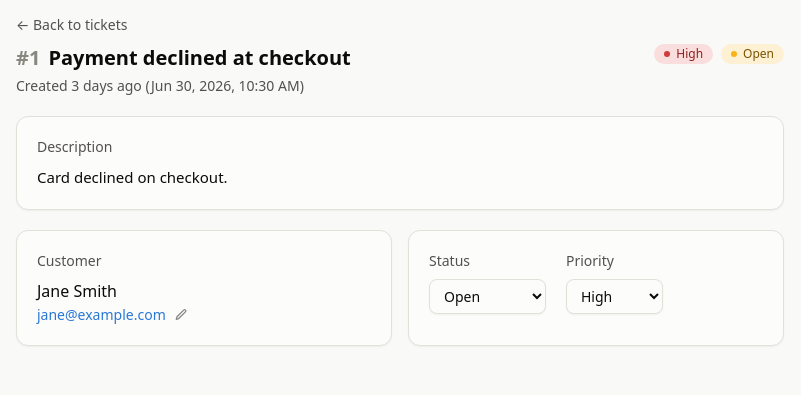
TicketDetailPage inline editing › shows a validation error for an invalid customer email without saving
Check: the text "Card declined on checkout." is shown, box [37,167,228,187]
Click the button named "Edit customer email" at x=181, y=315, box [172,306,190,324]
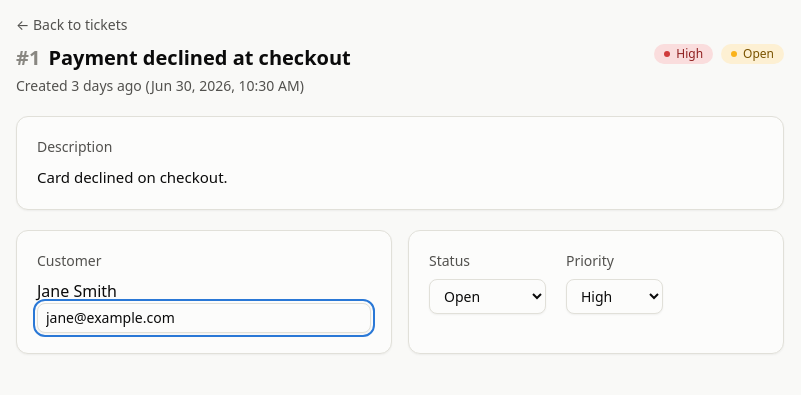
Replace the text in the field named "Customer email" with "not-an-email" at x=204, y=318, box [37,303,371,333]
Then press Enter
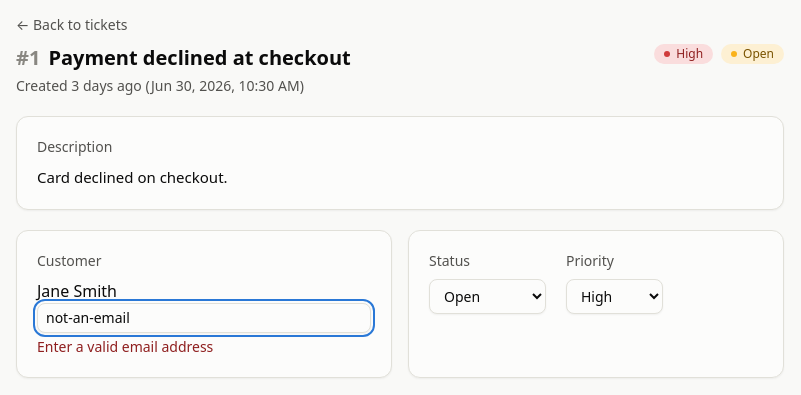
Check: the message reads "Enter a valid email address", box [37,337,213,356]
